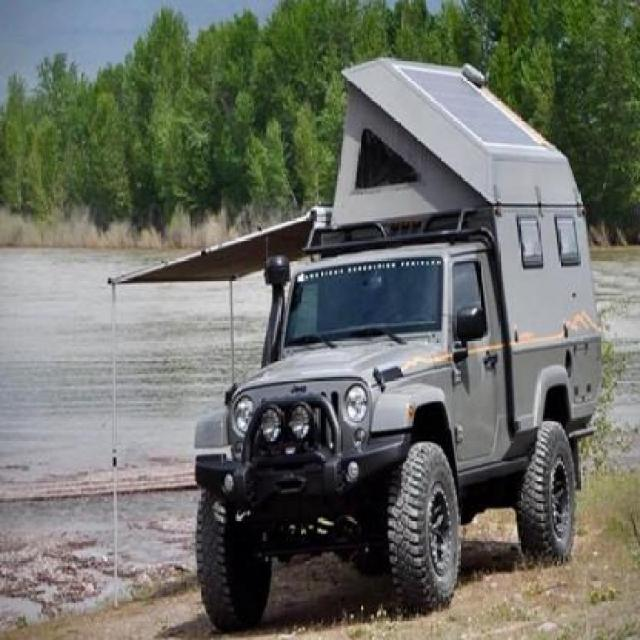Jeep: (193, 52, 602, 626)
